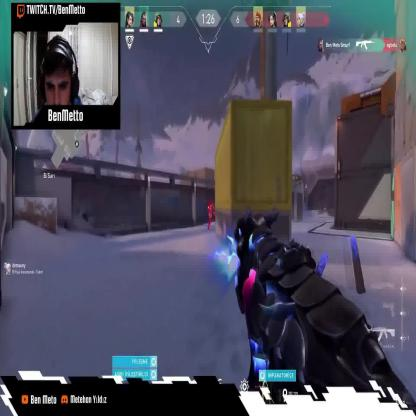enemy: (206, 198, 216, 230)
enemy_head: (209, 200, 212, 204)
